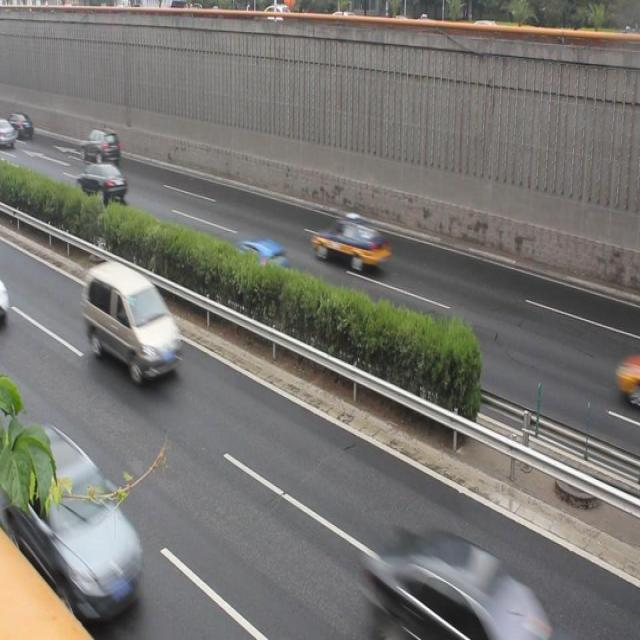car: (11, 424, 141, 608), (370, 521, 550, 640), (210, 239, 290, 306), (311, 215, 390, 273), (74, 162, 127, 204), (79, 128, 121, 165)
truck: (82, 260, 181, 380)
